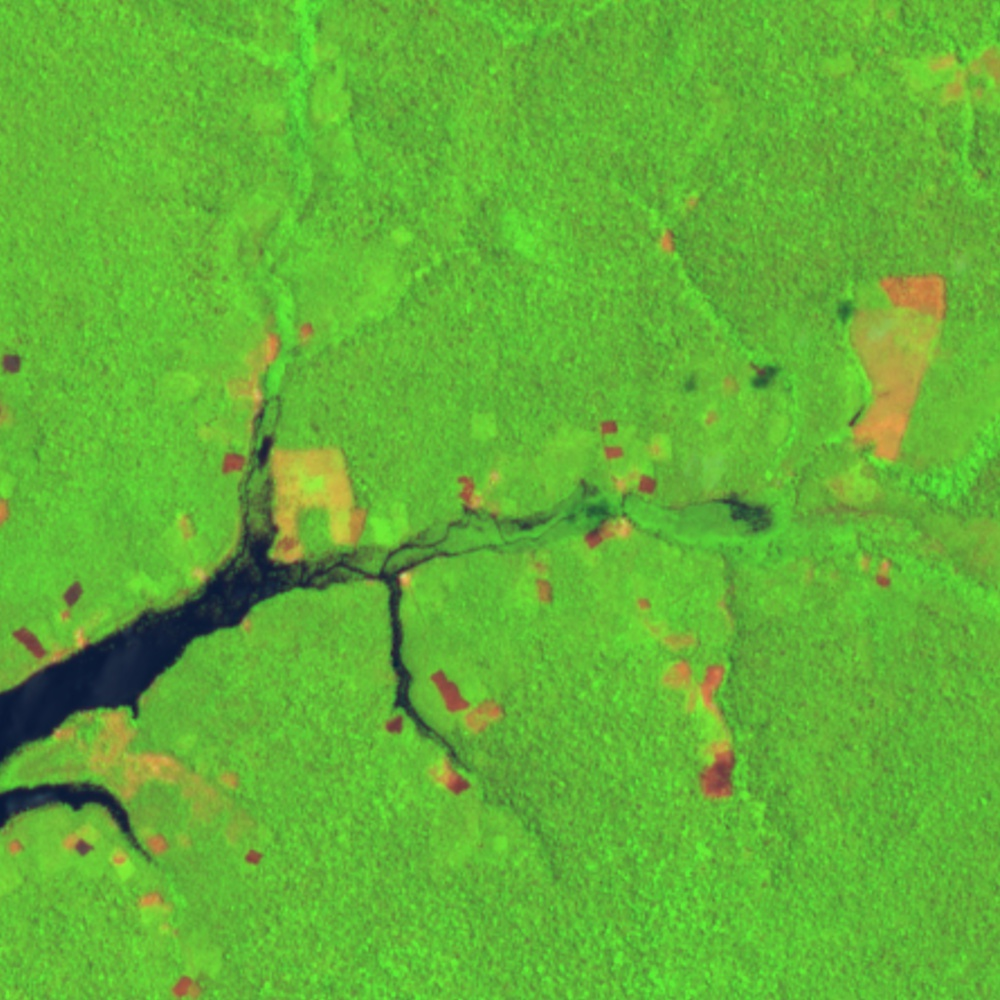legal: (633, 585, 747, 805), (829, 273, 948, 462), (53, 700, 229, 818), (4, 827, 194, 932), (381, 666, 507, 801), (262, 445, 376, 564), (584, 418, 675, 555), (219, 313, 312, 424), (9, 576, 91, 674), (912, 42, 1000, 107), (701, 353, 771, 433), (800, 545, 905, 589), (174, 505, 215, 586), (457, 465, 511, 523), (659, 187, 701, 261), (162, 947, 213, 1000), (1, 349, 28, 424), (231, 811, 267, 866), (525, 550, 558, 608), (209, 448, 247, 478), (1, 476, 21, 529), (392, 567, 418, 590)
